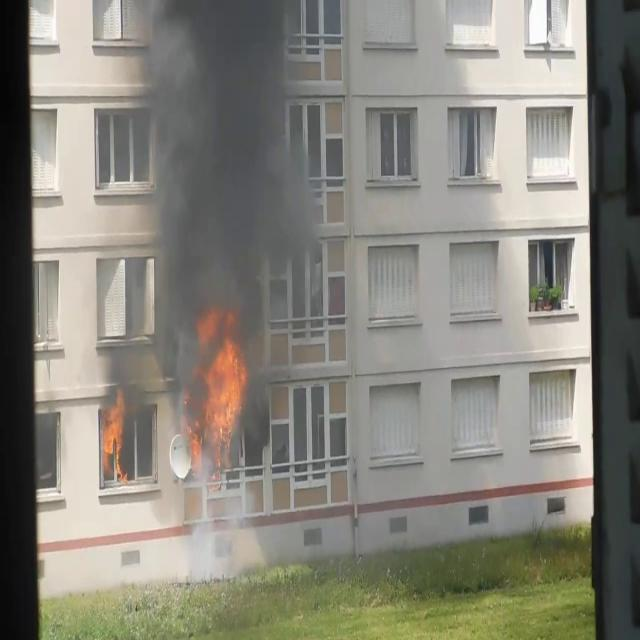Fire: (190, 312, 250, 466), (100, 387, 128, 478)
Smoke: (133, 1, 324, 442)
